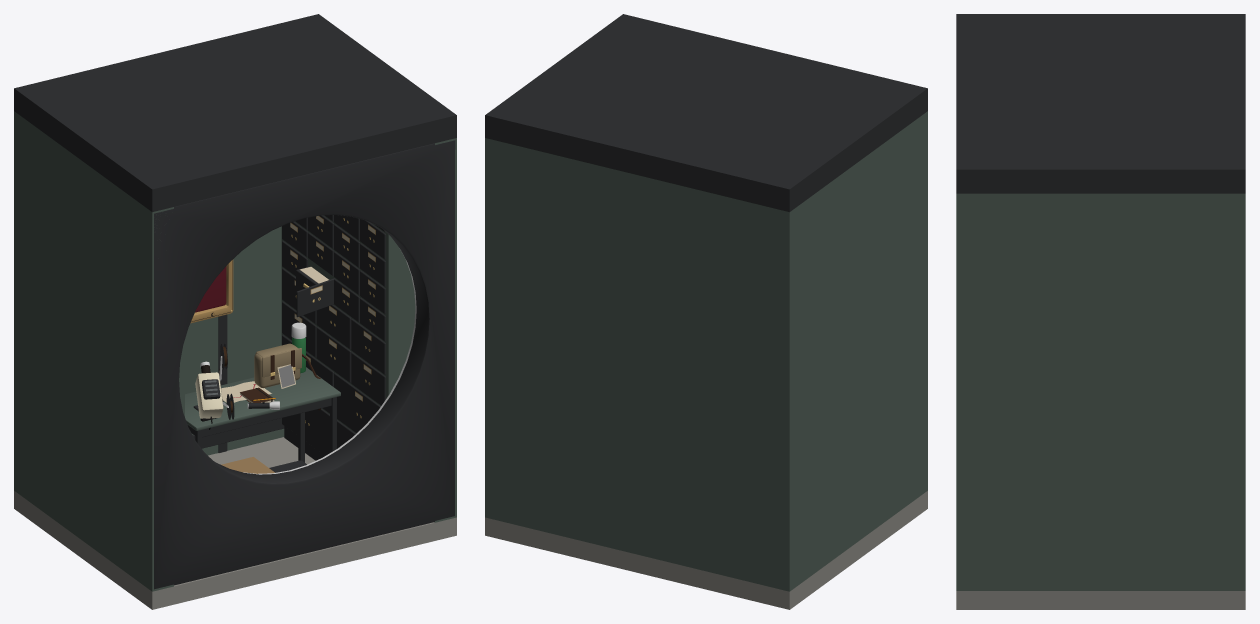
File: vault_interior.glb
The picture shows the model from 3 angles, left to right: view 1: azimuth 30°, elevation 25°; view 2: azimuth 150°, elevation 25°; view 3: azimuth 270°, elevation 25°; orthographic projection. The views are drawn at different scales.
Parts seen in each view (by area): view 1: vault_shell, vault_boxes, vault_table, field_kit, vault_projector, key_cradle; view 2: vault_shell; view 3: vault_shell.
Boxes of the visible parts, <box> form: vault_shell: <box>14,14,456,609</box>; vault_boxes: <box>179,215,415,460</box>; vault_table: <box>185,367,340,473</box>; field_kit: <box>221,322,320,410</box>; vault_projector: <box>193,343,234,429</box>; key_cradle: <box>190,259,233,323</box>; vault_shell: <box>485,14,927,609</box>; vault_shell: <box>956,14,1245,609</box>.
Bounding box in the file's own units: 2.1 × 2.77 × 1.65.
